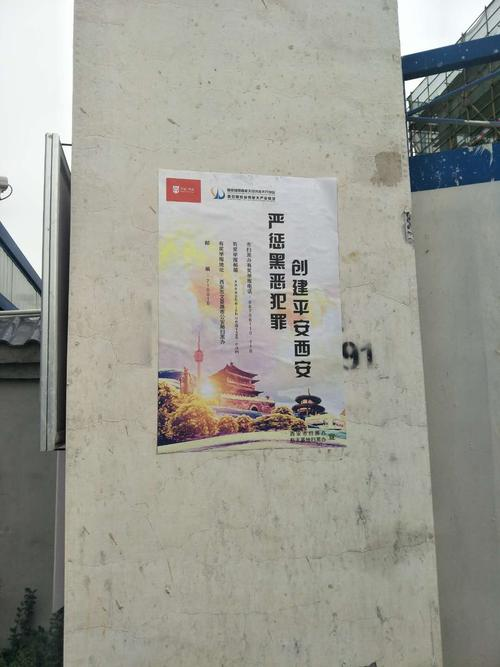bill: (156, 168, 345, 455)
